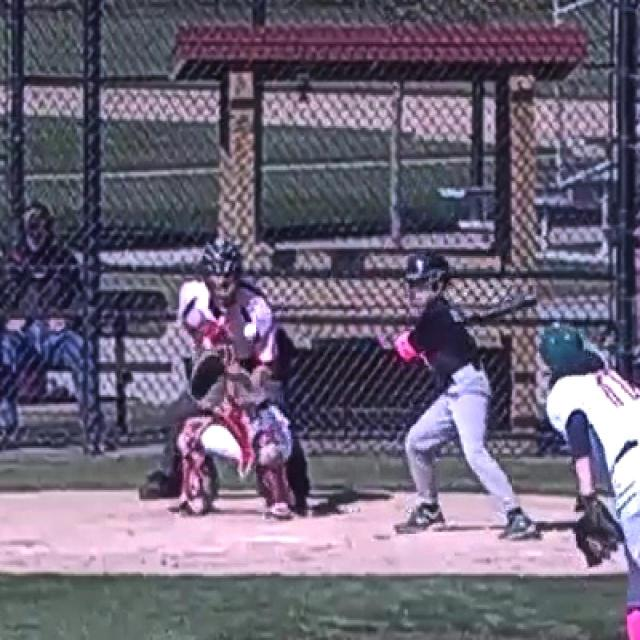baseball: (244, 324, 256, 337)
